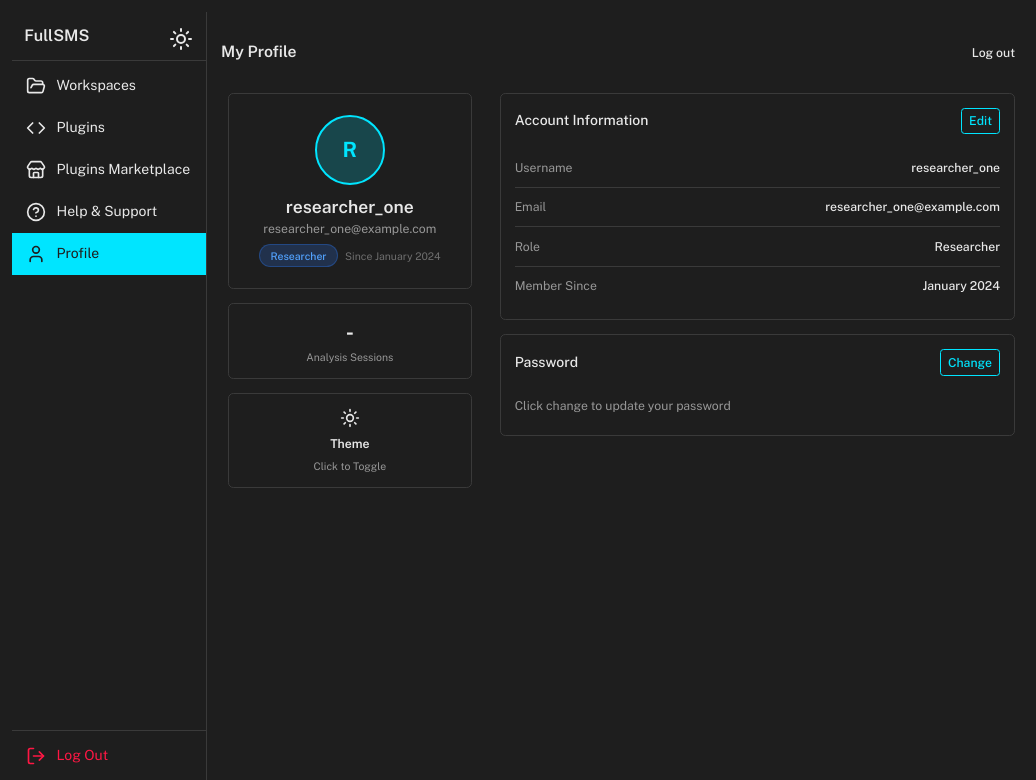
Test case: ProfilePage › shows username error when username is too short
expect the heading "My Profile" is shown: met, box [221,40,297,64]
Click the button "Edit" at (980, 121), box [961,108,1000,134]
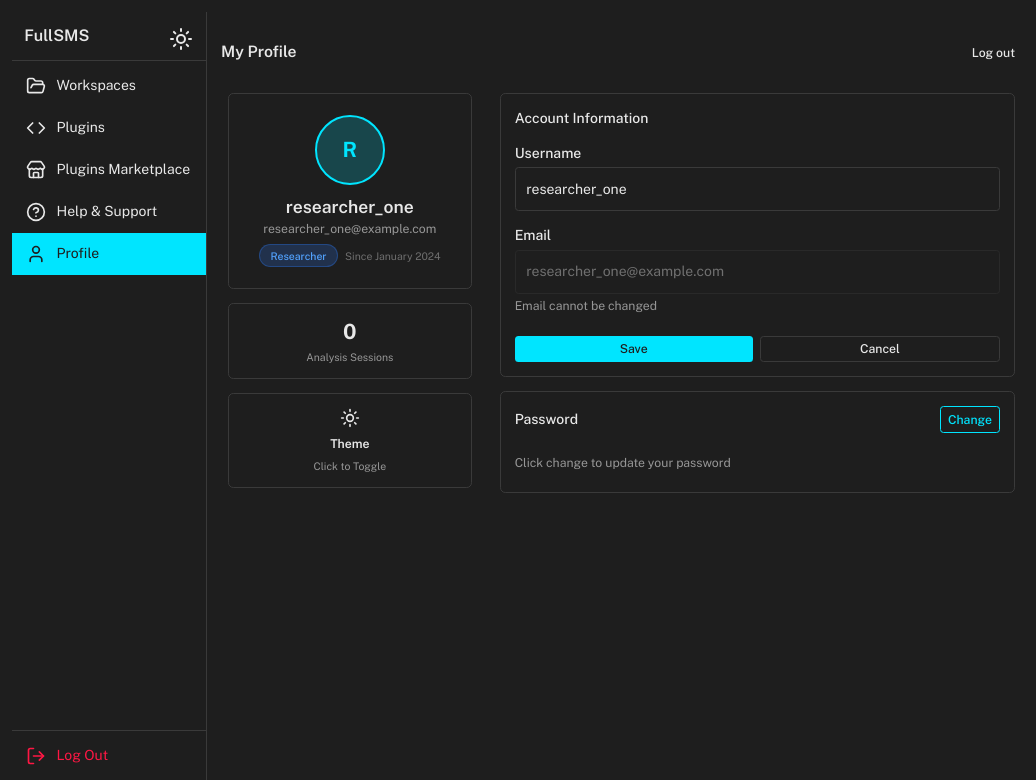
expect the field labelled "Username" is shown: met
Replace the text in the field labelled "Username" with "ab" at (757, 189), box [515,167,1000,211]
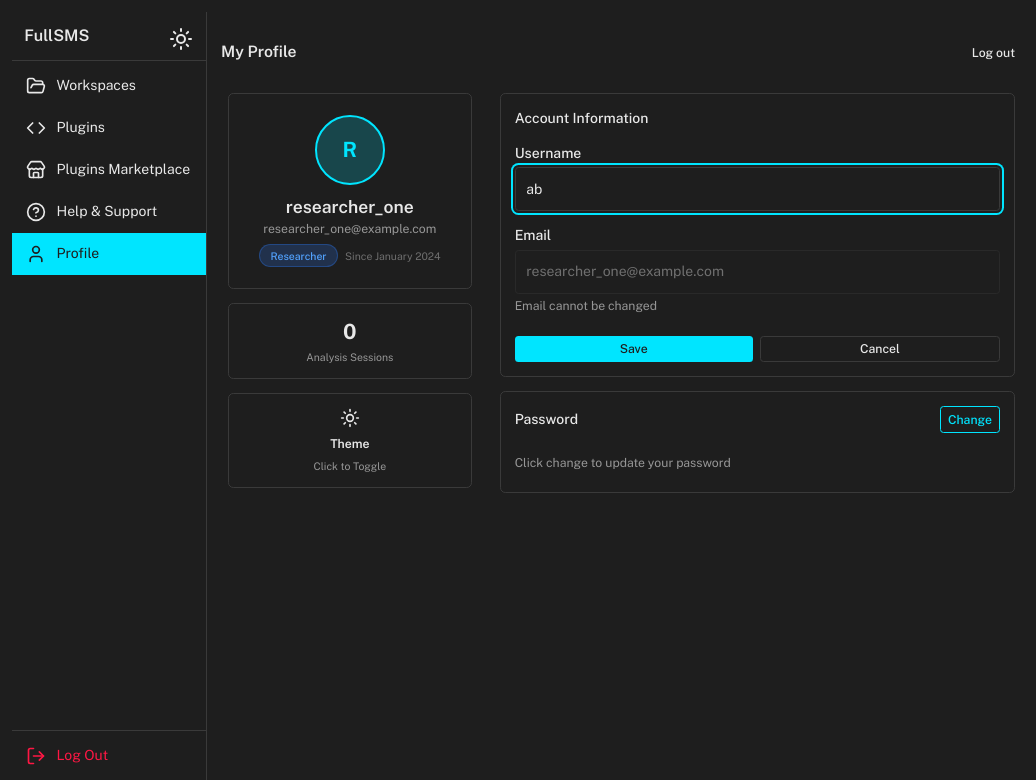
Click the button "Save" at (634, 349), box [515,336,753,362]
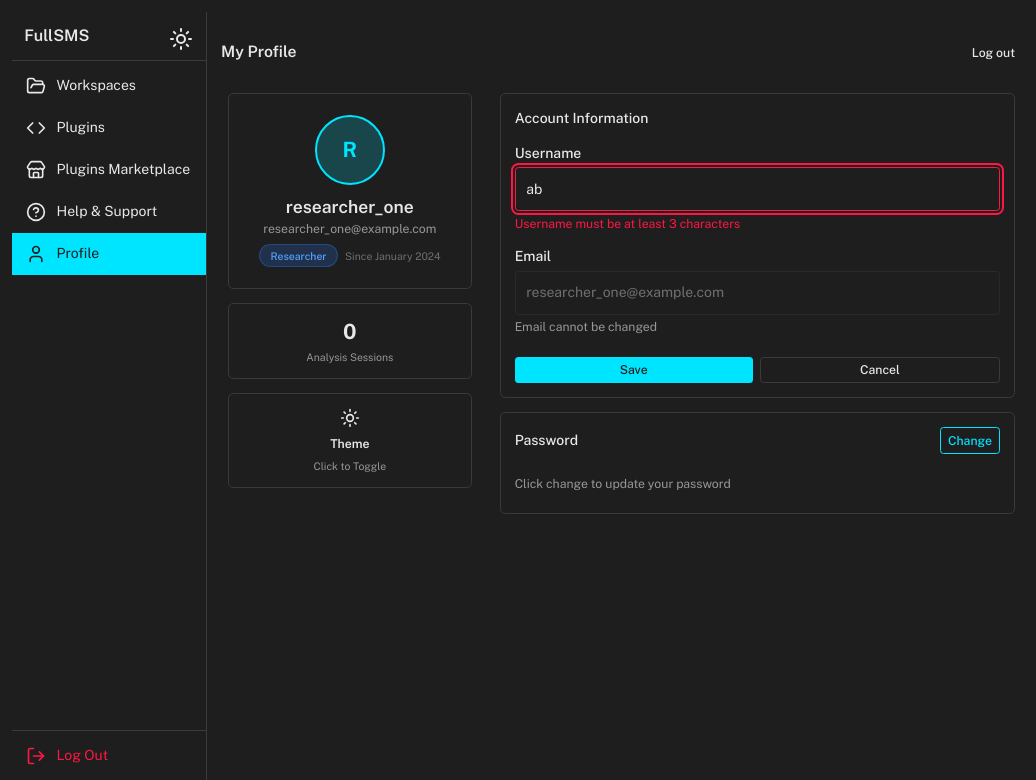
expect the text "Username must be at least 3 characters" is shown: met, box [515,216,740,230]
